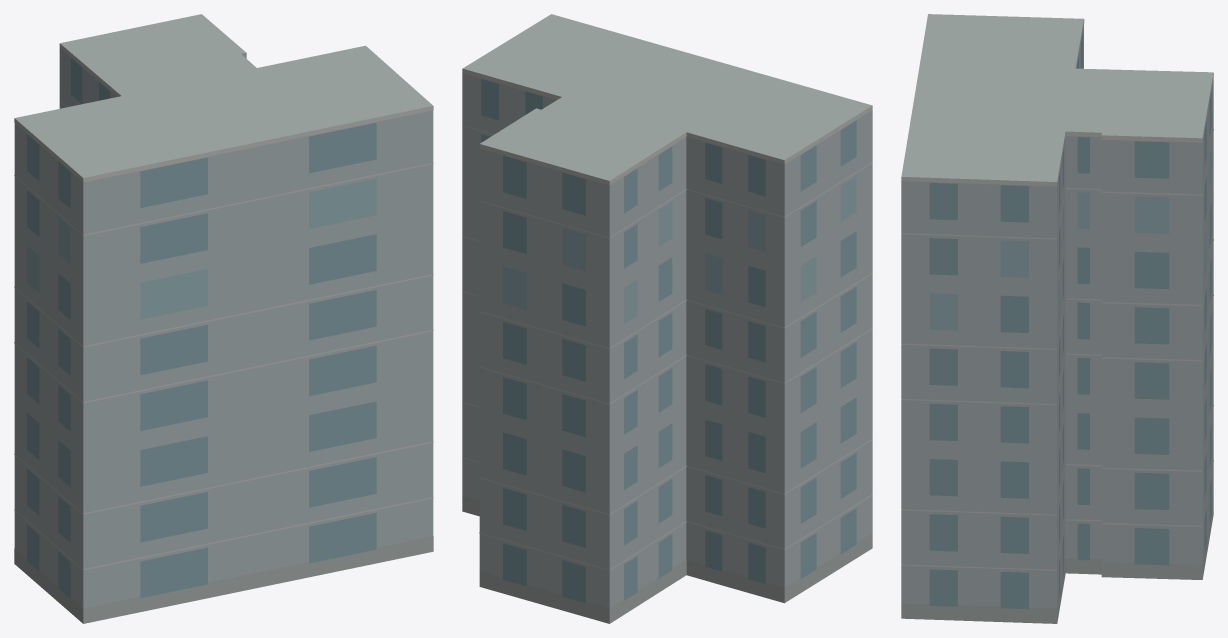
File: survey-upis-32701723.glb
3 views of the same model, side by side, from view 1: azimuth 30°, elevation 25°; view 2: azimuth 150°, elevation 25°; view 3: azimuth 270°, elevation 25° (orthographic).
Parts seen in each view (by area): view 1: survey-upis-32701723.tmp; view 2: survey-upis-32701723.tmp; view 3: survey-upis-32701723.tmp.
Boxes of the visible parts, x1=… form: survey-upis-32701723.tmp: x1=14, y1=14, x2=433, y2=623; survey-upis-32701723.tmp: x1=462, y1=14, x2=872, y2=623; survey-upis-32701723.tmp: x1=901, y1=14, x2=1213, y2=623.
Size of the model in its own units: 19.93 by 24.4 by 15.66.
